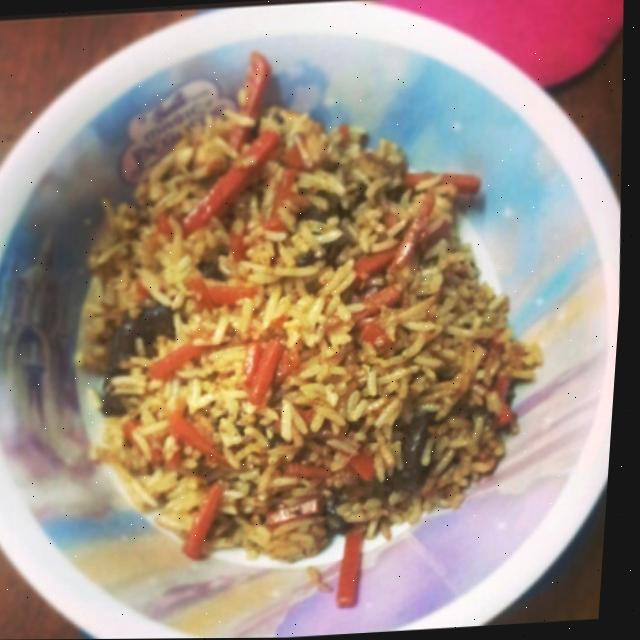米饭主食: (0, 7, 622, 640)
